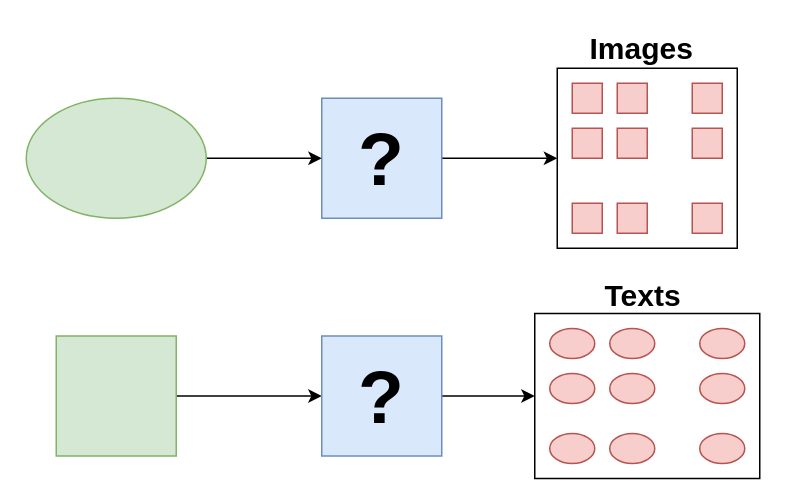
Some shapes in this 786 by 504 pixel diagram are drawn without their labels. The centre of each missing label's shape, as x and y in pixels:
Image: pixel 115 395
Text: pixel 115 157
